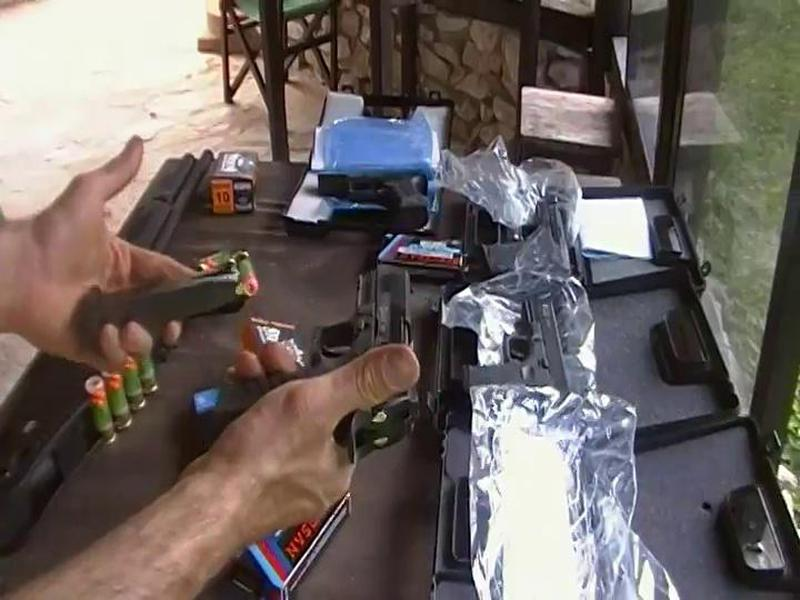Pistola: (216, 256, 430, 465)
